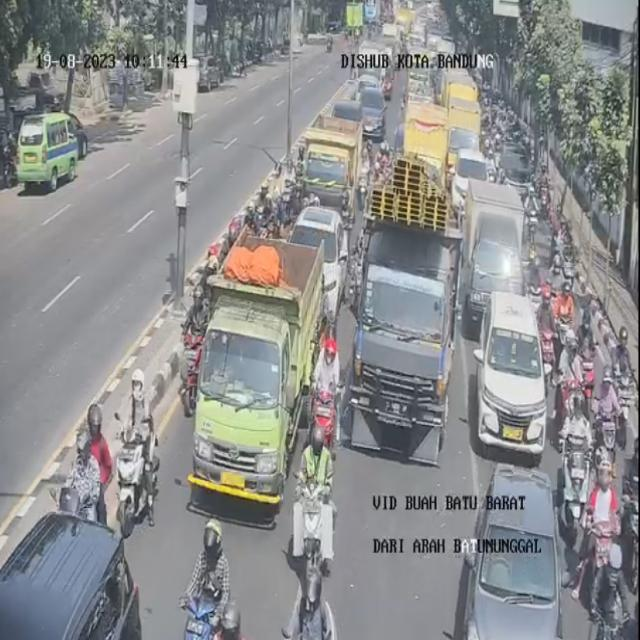bunch of motorcycle: (535, 252, 640, 640)
cars: (456, 465, 567, 640), (0, 512, 140, 637), (466, 290, 547, 456), (463, 174, 525, 338), (296, 208, 351, 312), (454, 147, 492, 211), (354, 83, 388, 143), (337, 92, 373, 142)
motorcycle: (118, 352, 165, 525), (184, 519, 238, 638), (590, 459, 628, 618), (297, 425, 334, 576), (581, 527, 628, 638), (68, 403, 108, 531), (562, 392, 593, 549), (285, 563, 337, 640), (607, 322, 636, 456), (551, 332, 581, 457), (180, 280, 207, 403), (315, 332, 342, 448), (594, 373, 620, 488), (573, 309, 599, 422), (554, 285, 579, 376), (538, 284, 556, 378), (280, 149, 302, 222), (560, 234, 577, 301), (548, 254, 564, 312), (264, 193, 279, 240), (256, 182, 268, 234)
truck: (192, 244, 324, 523), (360, 210, 463, 454), (304, 118, 364, 221), (399, 93, 440, 237), (447, 90, 482, 168), (442, 64, 474, 99), (406, 52, 428, 102)
